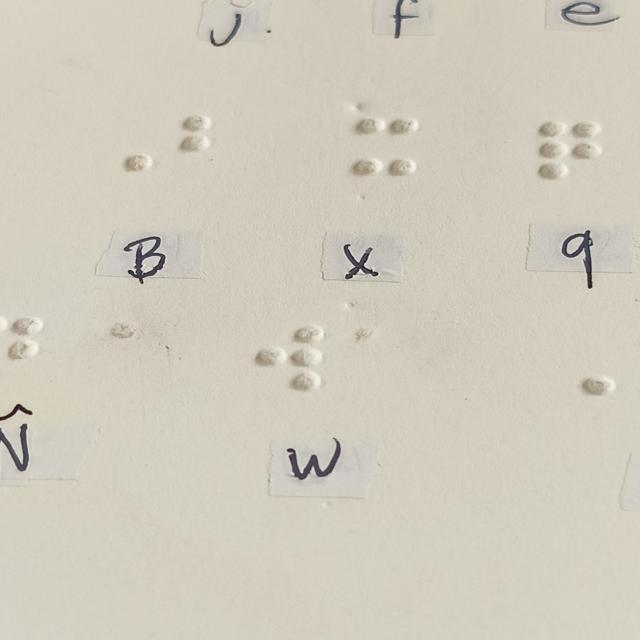B: (181, 116, 242, 175)
W: (258, 325, 325, 388)
capital: (93, 116, 154, 175)
q: (538, 119, 601, 181)
x: (355, 116, 416, 175)
